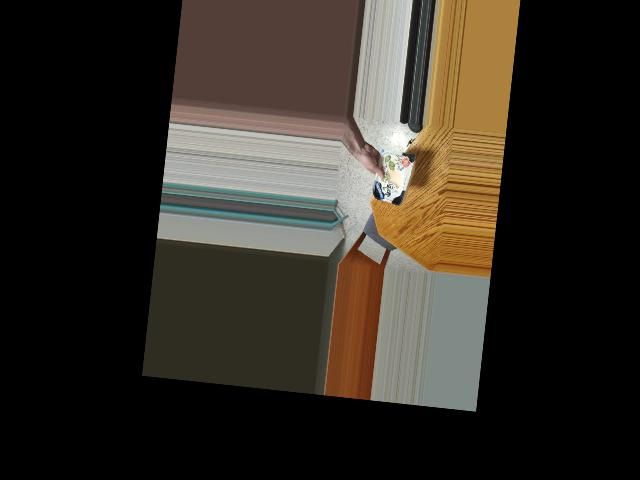cheese: (370, 155, 412, 207)
